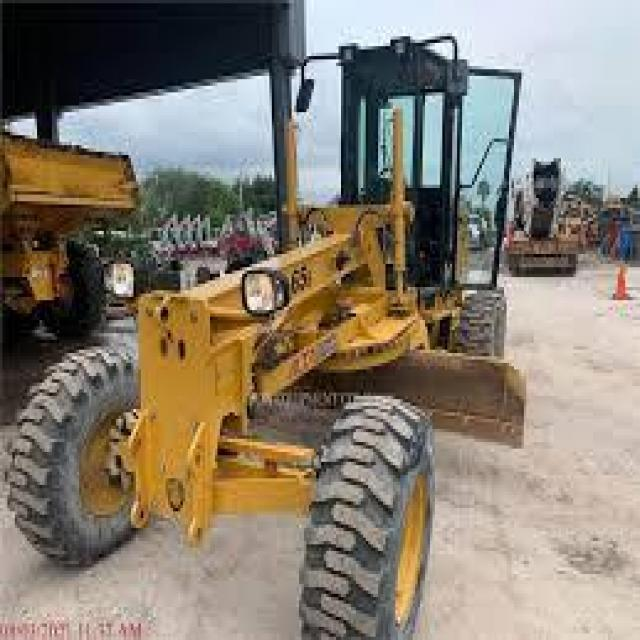Grader: (10, 23, 561, 633)
